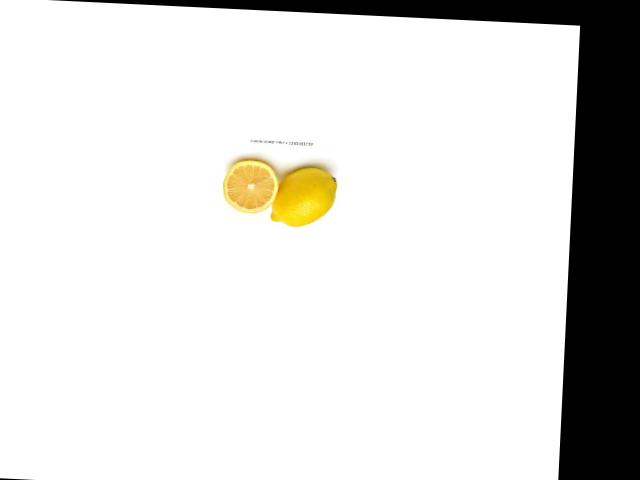lemon: (269, 163, 343, 229)
